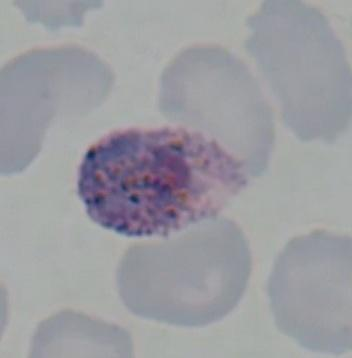Infected: (77, 123, 249, 239)
Uninfected: (117, 211, 254, 328), (159, 45, 276, 179), (243, 0, 352, 143), (0, 45, 114, 175), (269, 229, 352, 358)
